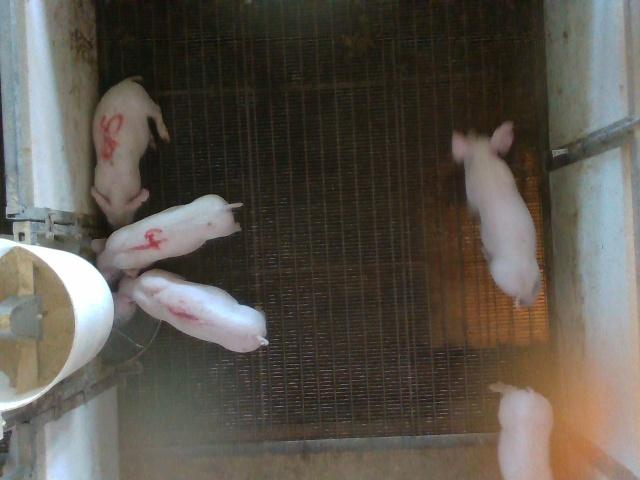pig-1: (120, 269, 269, 352)
pig-4: (98, 195, 242, 273)
pig-5: (91, 76, 170, 228)
